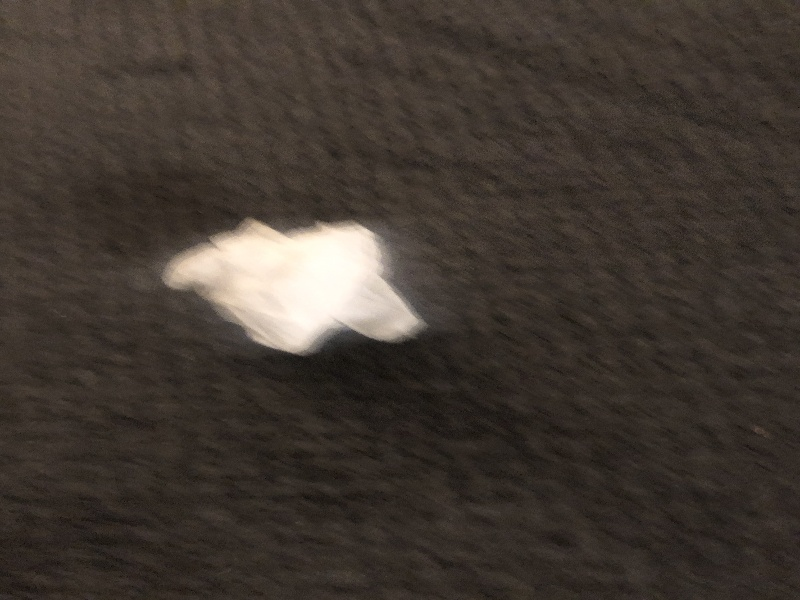metal: (149, 216, 457, 364)
